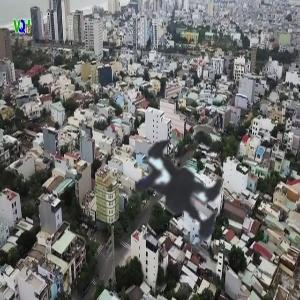drone: (75, 87, 284, 296)
